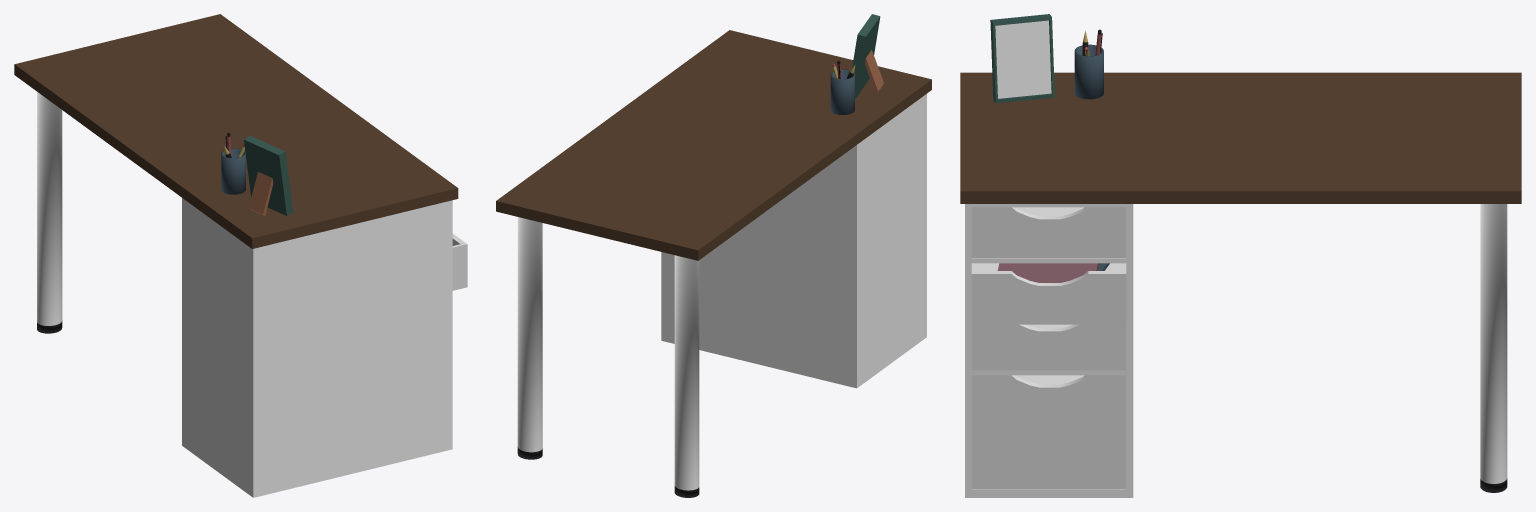
The model's file is desk.fbx.
The picture shows the model from 3 angles, left to right: view 1: azimuth 30°, elevation 25°; view 2: azimuth 150°, elevation 25°; view 3: azimuth 270°, elevation 25°; orthographic projection. The views are drawn at different scales.
Parts seen in each view (by area): view 1: runko, pöytälevy, jalka2, kehys, kynäteline, laatikosto2, kehys_jalka; view 2: pöytälevy, runko, jalka, jalka2, kehys, kynäteline; view 3: pöytälevy, laatikosto4, runko, laatikosto2, jalka, laatikosto1, laatikosto3, kehys, sisältlöä.001, kynäteline.
Boxes of the visible parts, left/top/right/bottom form: runko: left=182, top=198, right=452, bottom=497; pöytälevy: left=14, top=14, right=458, bottom=248; jalka2: left=37, top=92, right=62, bottom=333; kehys: left=244, top=136, right=293, bottom=215; kynäteline: left=221, top=148, right=245, bottom=194; laatikosto2: left=452, top=233, right=467, bottom=290; kehys_jalka: left=248, top=172, right=273, bottom=215; pöytälevy: left=496, top=30, right=931, bottom=260; runko: left=661, top=94, right=926, bottom=388; jalka: left=517, top=217, right=542, bottom=459; jalka2: left=674, top=255, right=699, bottom=497; kehys: left=852, top=14, right=880, bottom=98; kynäteline: left=830, top=69, right=854, bottom=114; pöytälevy: left=960, top=72, right=1521, bottom=203; laatikosto4: left=971, top=375, right=1125, bottom=489; runko: left=965, top=204, right=1133, bottom=497; laatikosto2: left=971, top=263, right=1126, bottom=324; jalka: left=1480, top=204, right=1507, bottom=492; laatikosto1: left=971, top=207, right=1125, bottom=257; laatikosto3: left=971, top=324, right=1125, bottom=370; kehys: left=990, top=14, right=1054, bottom=103; sisältlöä.001: left=997, top=263, right=1099, bottom=282; kynäteline: left=1074, top=44, right=1103, bottom=99.
Size of the model in its own units: 64.14 by 91.01 by 120.
